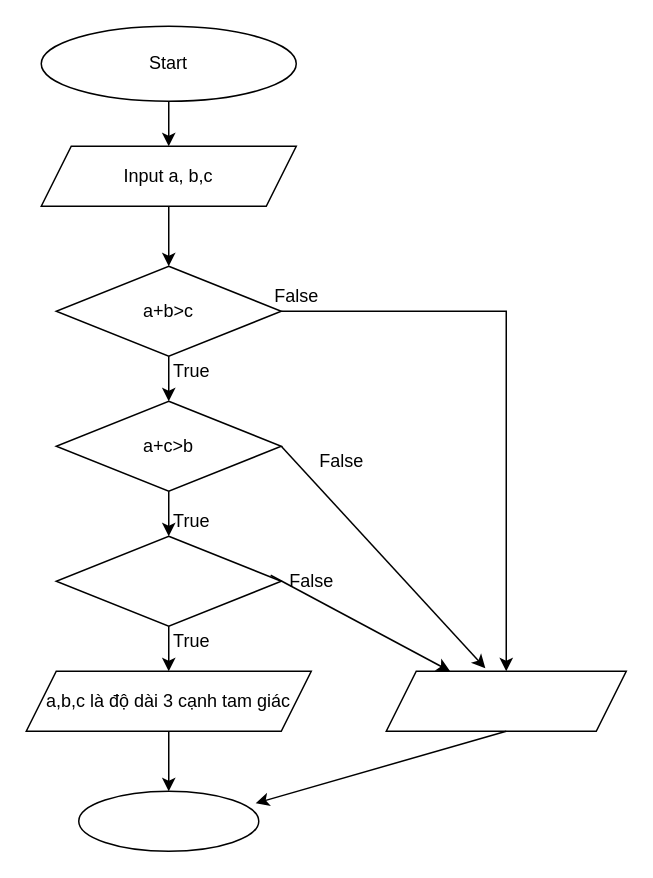
Image size: 653x878. Some labels were removed from this diagram. The shapes that lost their labels are listed below. From the top down, each one's centre as x and y in pixels, then its label:
At (x=168, y=580): "b+c>a".
At (x=505, y=700): "a,b,c không phải độ dài 3 cạnh tam giác".
At (x=168, y=820): "Stop".
